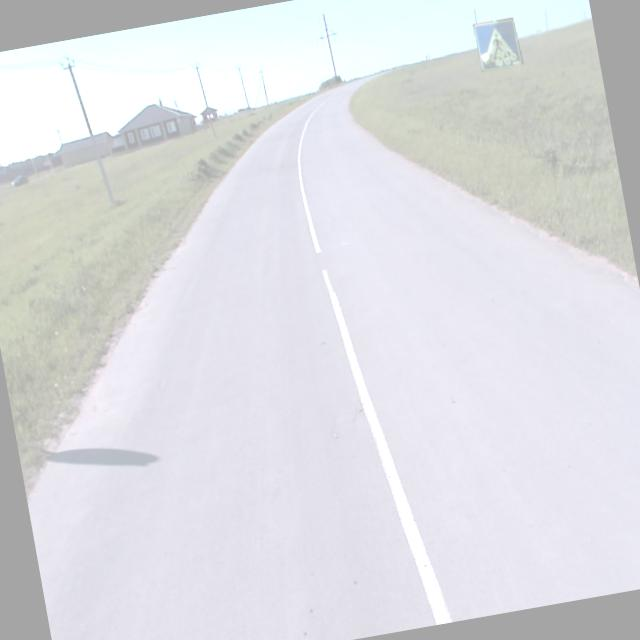road: (27, 70, 640, 640)
